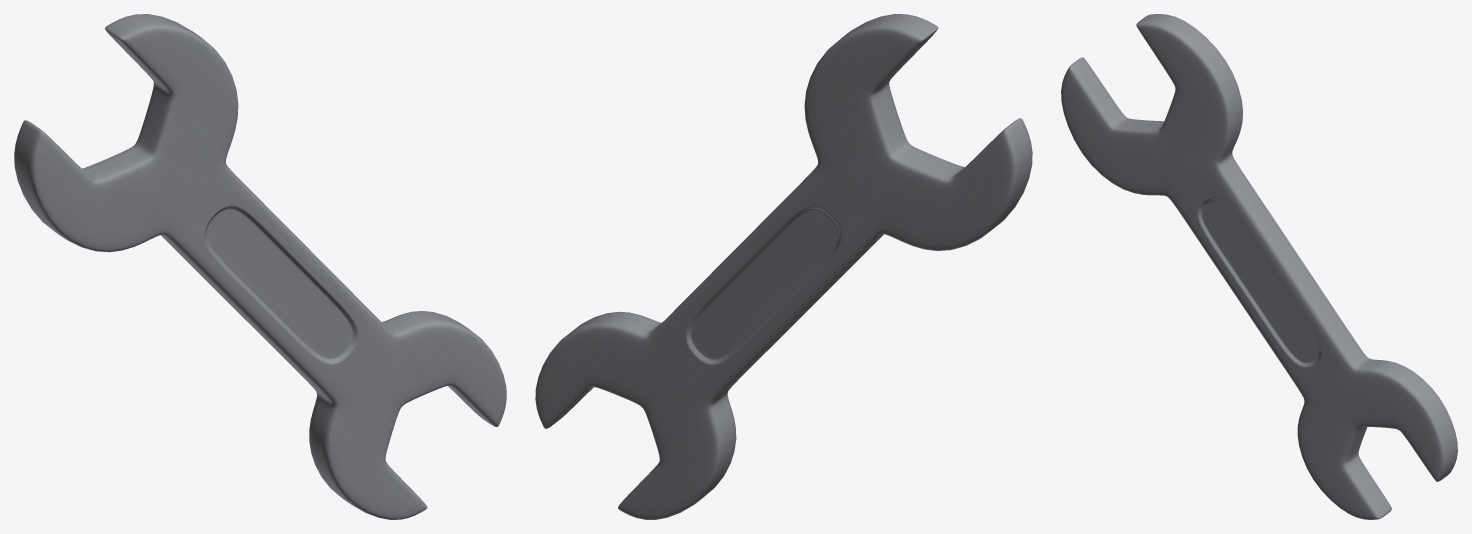
The model's file is key2.obj.
The picture shows the model from 3 angles, left to right: view 1: azimuth 30°, elevation 25°; view 2: azimuth 150°, elevation 25°; view 3: azimuth 330°, elevation 25°; orthographic projection. The views are drawn at different scales.
Parts seen in each view (by area): view 1: Wrench.001_Circle.001; view 2: Wrench.001_Circle.001; view 3: Wrench.001_Circle.001.
Boxes of the visible parts, x1=… form: Wrench.001_Circle.001: x1=14, y1=14, x2=506, y2=519; Wrench.001_Circle.001: x1=535, y1=14, x2=1032, y2=519; Wrench.001_Circle.001: x1=1061, y1=14, x2=1457, y2=519.
Size of the model in its own units: 1.09 by 1.21 by 0.0898.
Materials: 1 (1 with a texture image).
